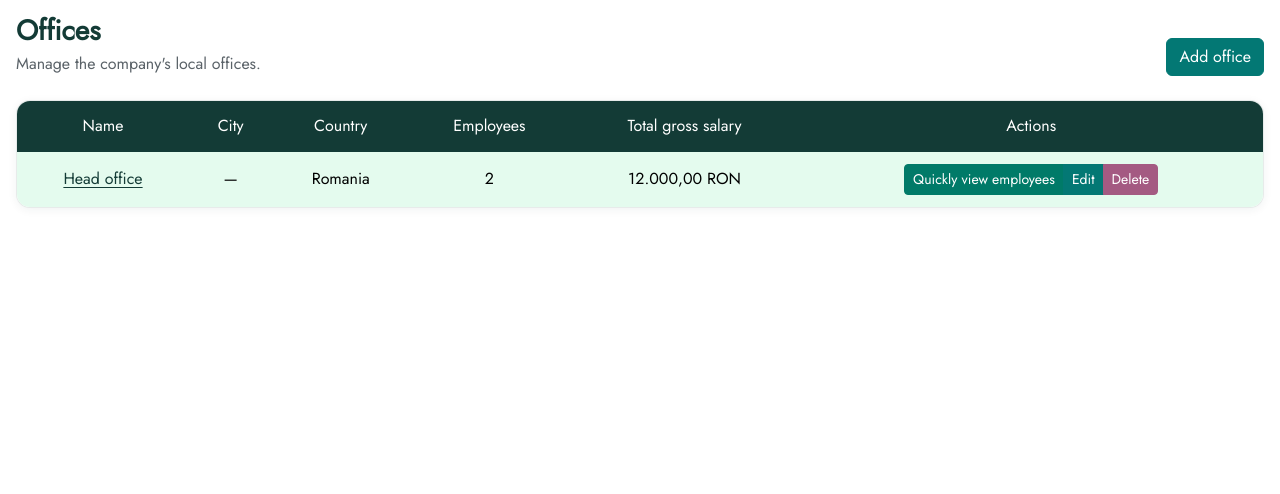
it: OfficesComponent › template › shows the error under the name and does not save a blank office
The image size is (1280, 494).
Click the button "Add office": (1215, 57) [1166,38,1264,76]
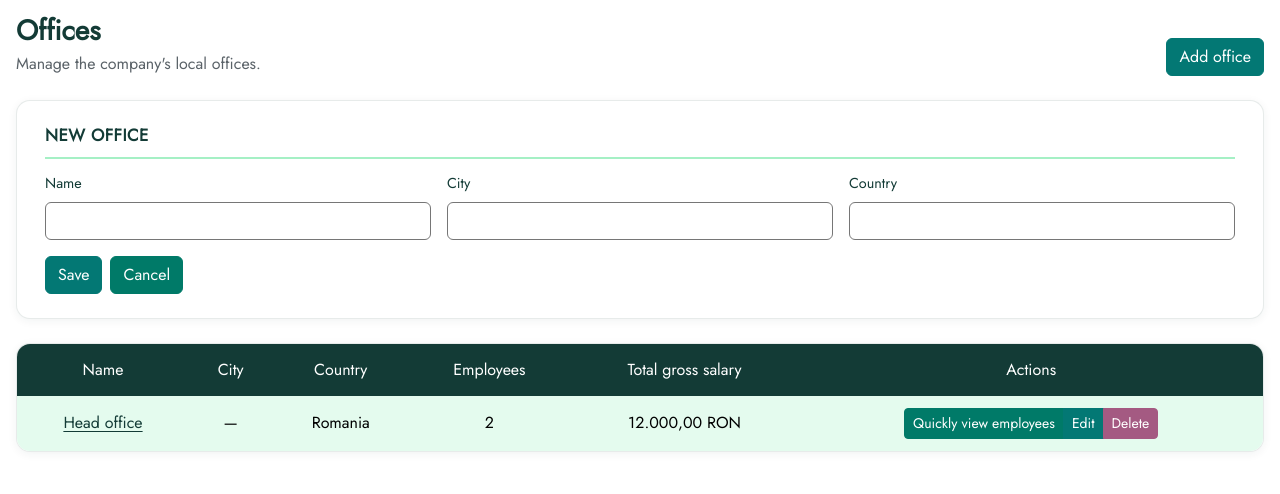
Click the button "Save": (74, 275) [45,256,102,294]
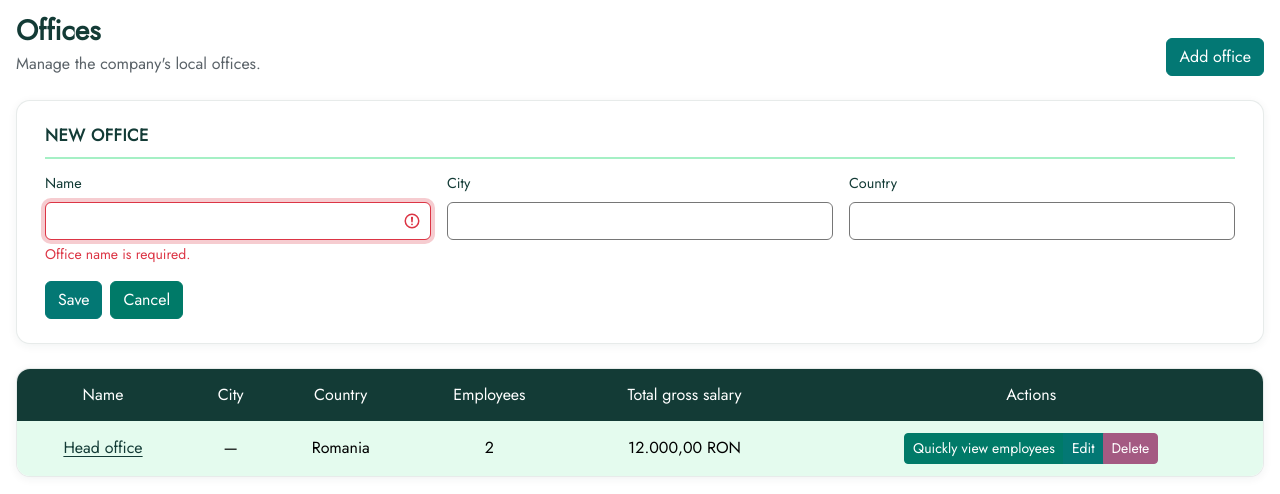
Result: the text with id "name-error" reads "Office name is required." at [45,244,190,264]
